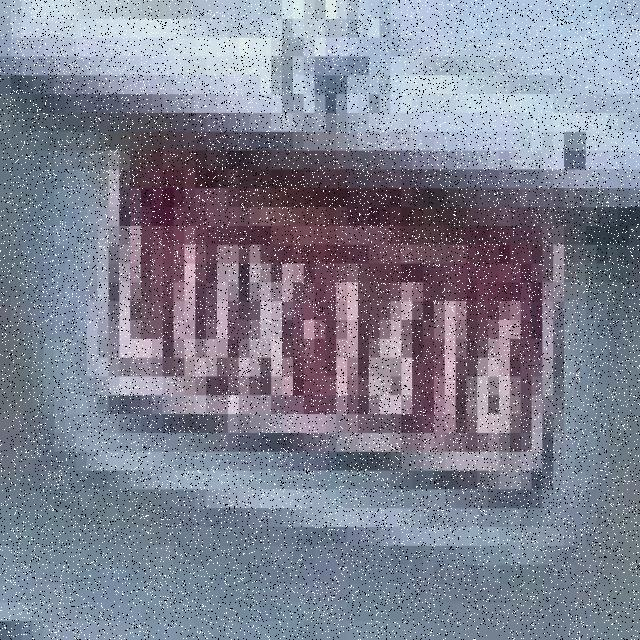licenseplate: (89, 120, 567, 503)
